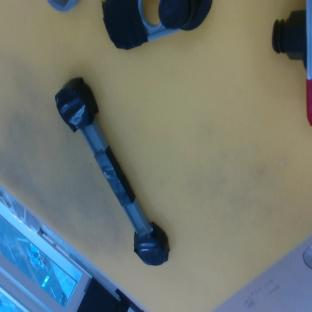part_1_bad: (102, 0, 212, 49)
part_1_good: (272, 0, 312, 125)
part_3_bad: (48, 73, 177, 273)
